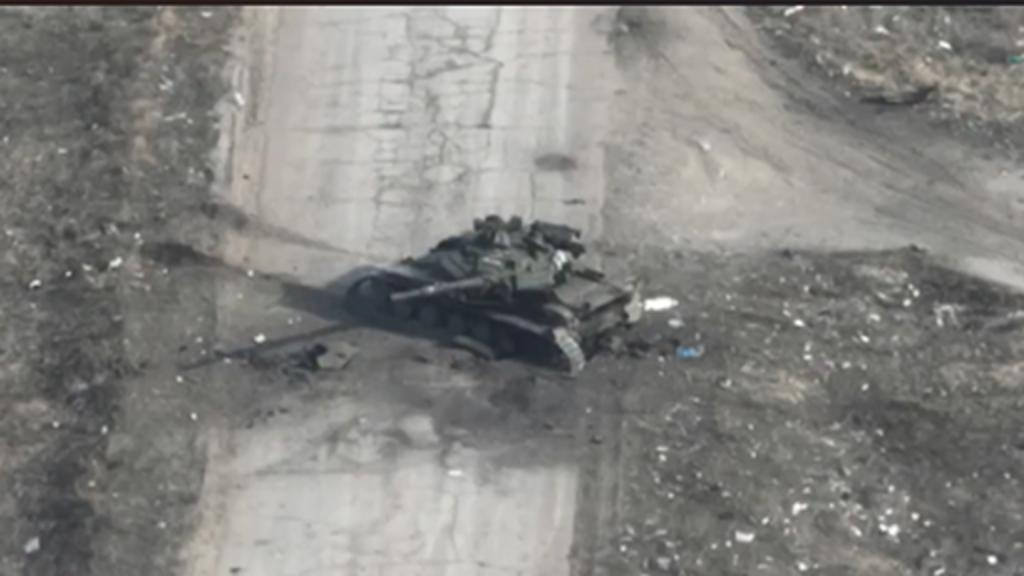TANK: (340, 204, 648, 378)
